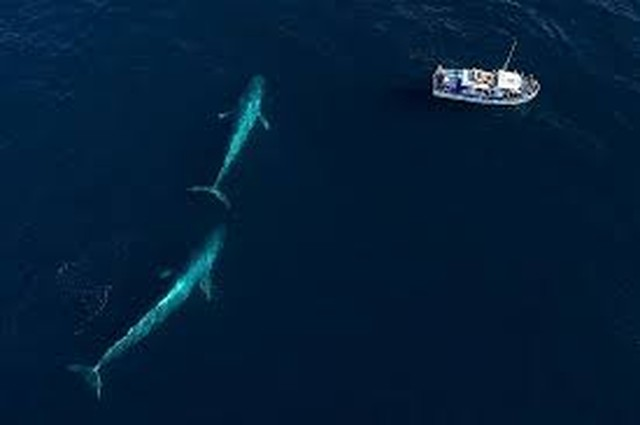whale: (63, 219, 231, 405), (187, 74, 272, 217)
